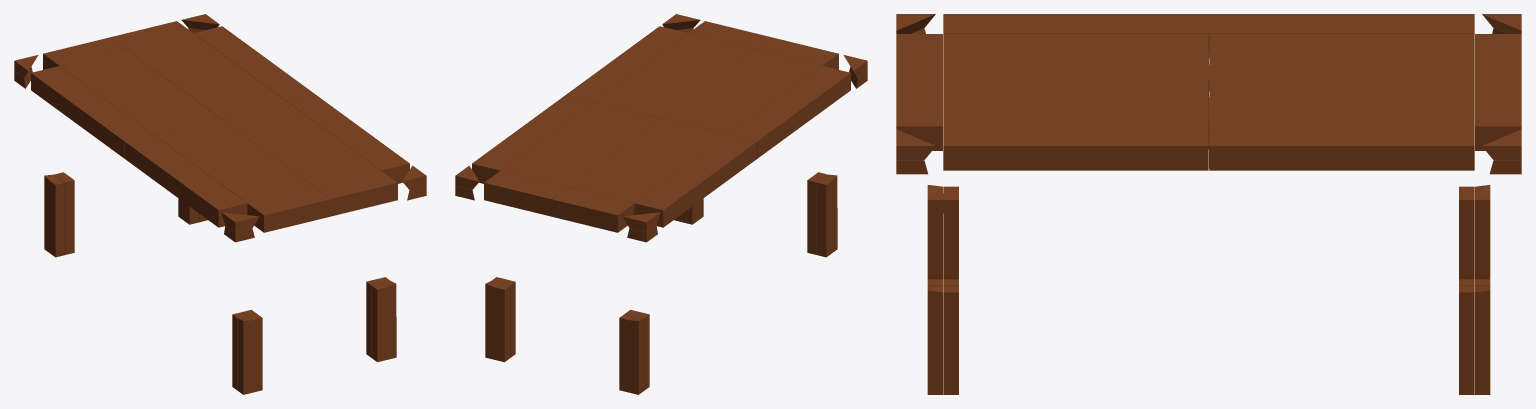
File: coffee_table_kaputt.glb
The picture shows the model from 3 angles, left to right: view 1: azimuth 30°, elevation 25°; view 2: azimuth 150°, elevation 25°; view 3: azimuth 270°, elevation 25°; orthographic projection. The views are drawn at different scales.
Parts seen in each view (by area): view 1: Cube_cell.031, Cube_cell.037, Cube_cell.009, Cube_cell.019, Cube_cell.027, Cube_cell.033, Cube_cell.023, Cube_cell.013, Cube_cell.029, Cube_cell.017, Cube_cell.039, Cube_cell.016 (+12 smaller); view 2: Cube_cell.037, Cube_cell.031, Cube_cell.019, Cube_cell.009, Cube_cell.033, Cube_cell.027, Cube_cell.013, Cube_cell.023, Cube_cell.039, Cube_cell.011, Cube_cell.029, Cube_cell.010 (+12 smaller); view 3: Cube_cell.019, Cube_cell.009, Cube_cell.037, Cube_cell.031, Cube_cell.013, Cube_cell.023, Cube_cell.033, Cube_cell.027, Cube_cell.011, Cube_cell.017, Cube_cell.029, Cube_cell.039 (+12 smaller).
Part boxes in pixels (box(x1,y1,x2,y2)): Cube_cell.031: box(154, 118, 313, 214); Cube_cell.037: box(60, 49, 219, 134); Cube_cell.009: box(127, 33, 286, 118); Cube_cell.019: box(221, 102, 380, 186); Cube_cell.027: box(125, 134, 247, 227); Cube_cell.033: box(31, 66, 152, 158); Cube_cell.023: box(288, 95, 409, 183); Cube_cell.013: box(194, 26, 315, 101); Cube_cell.029: box(247, 187, 330, 232); Cube_cell.017: box(315, 170, 397, 216); Cube_cell.039: box(43, 37, 125, 69); Cube_cell.016: box(372, 283, 386, 362); Cube_cell.037: box(568, 118, 727, 214); Cube_cell.031: box(662, 49, 821, 134); Cube_cell.019: box(595, 33, 754, 118); Cube_cell.009: box(501, 102, 660, 186); Cube_cell.033: box(634, 134, 756, 227); Cube_cell.027: box(729, 66, 850, 158); Cube_cell.013: box(472, 95, 593, 183); Cube_cell.023: box(566, 26, 687, 101); Cube_cell.039: box(551, 187, 634, 232); Cube_cell.011: box(484, 170, 566, 216); Cube_cell.029: box(756, 37, 838, 69); Cube_cell.010: box(495, 283, 509, 362); Cube_cell.019: box(943, 80, 1208, 149); Cube_cell.009: box(1209, 80, 1474, 137); Cube_cell.037: box(1209, 34, 1474, 90); Cube_cell.031: box(943, 34, 1208, 81); Cube_cell.013: box(1209, 126, 1474, 170); Cube_cell.023: box(943, 126, 1208, 170); Cube_cell.033: box(1209, 14, 1474, 57); Cube_cell.027: box(943, 14, 1208, 52); Cube_cell.011: box(1475, 80, 1521, 150); Cube_cell.017: box(896, 80, 942, 150); Cube_cell.029: box(896, 34, 942, 79); Cube_cell.039: box(1475, 34, 1521, 79).
Size of the model in its own units: 2 by 1.85 by 4.
